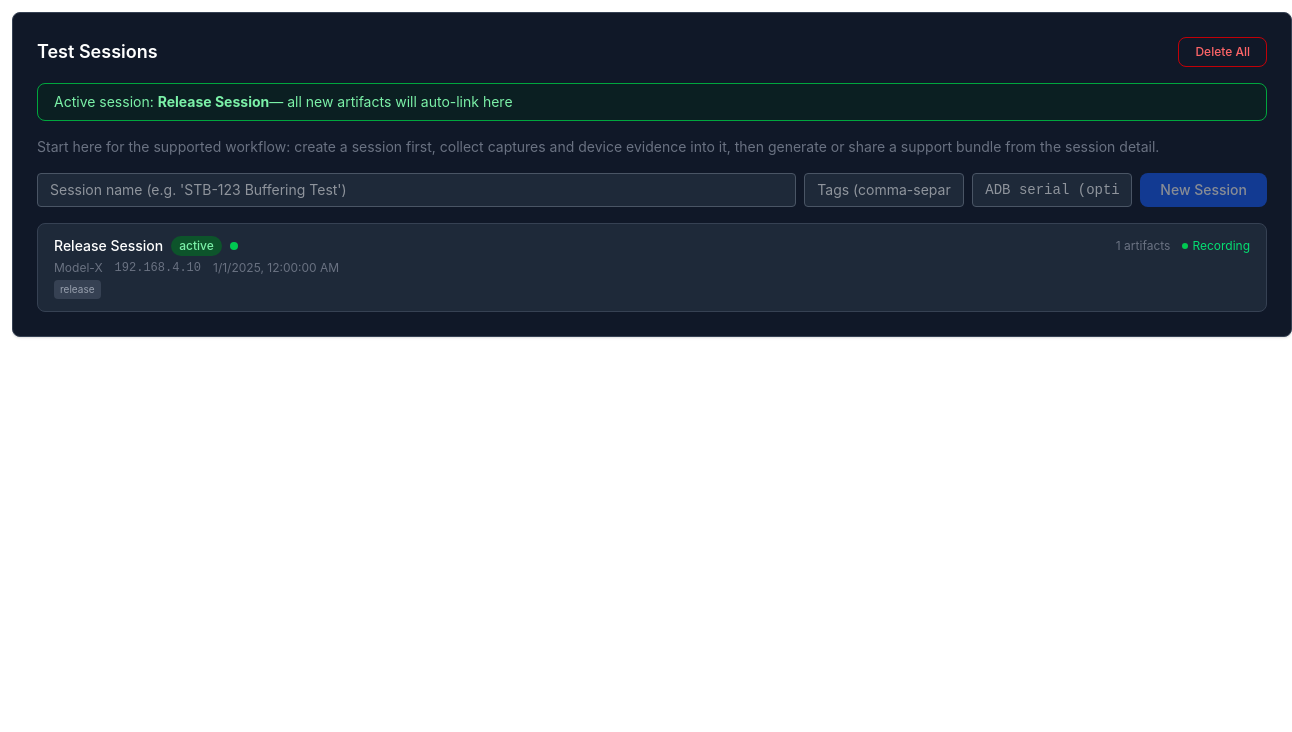
Test: SessionPanel › loads session detail and exposes bundle sharing for the supported path
Step 1. Click the text "Release Session" in the row of "Recording" → {"x": 109, "y": 246}, box [54,236,163,256]
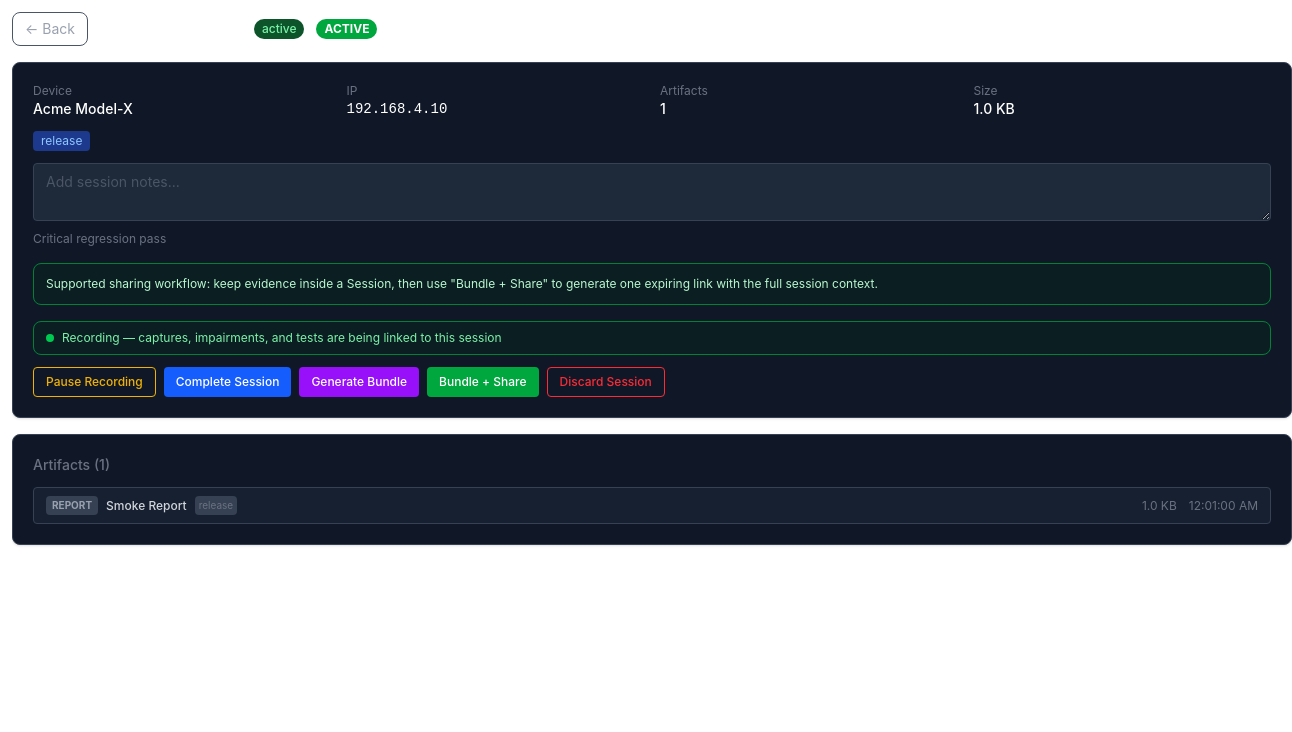
Expected: the text "Supported sharing workflow" is shown, [46,276,878,291]
Expected: the button "Bundle + Share" is shown, [427,367,539,397]
Expected: the text "Smoke Report" is shown, [106,498,187,514]
